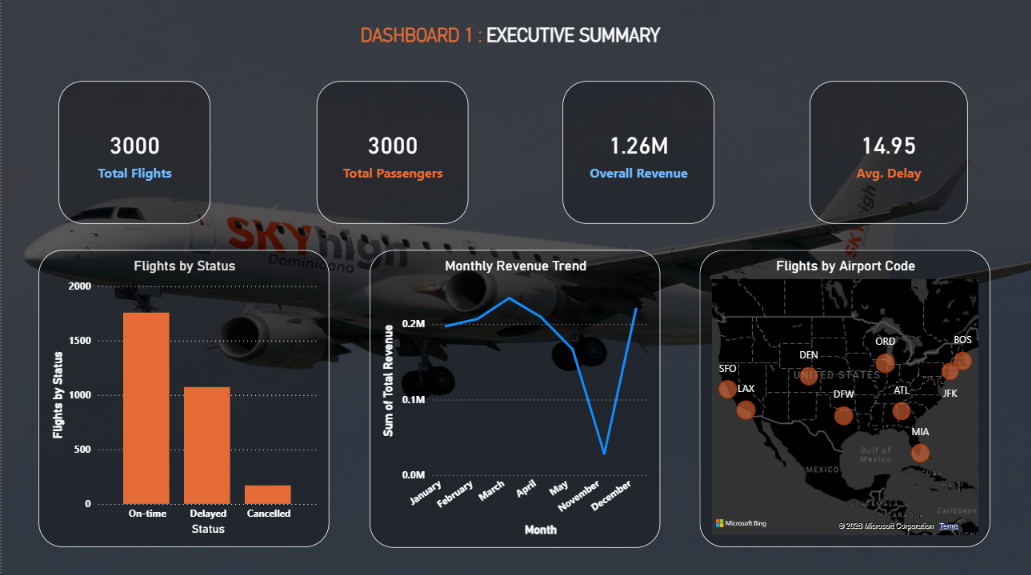

This screenshot's page, from the dashboard's own definition file:
{"tool":"powerbi","page":{"name":"Page 1","canvas":[1280,720],"ordinal":0},"visuals":[{"type":"textbox","box":[441.6,24.9,395.6,42.3],"z":0},{"type":"card","fields":{"Values":["Airline_Flights.Total Flights"]},"box":[70.9,100.8,189.1,177.9],"z":1000},{"type":"card","fields":{"Values":["Airline_Passengers.Total Passengers"]},"box":[391.8,100.8,189.1,177.9],"z":2000},{"type":"card","fields":{"Values":["Airline_Revenue.Overall Revenue"]},"box":[697.9,100.8,189.1,177.9],"z":3000},{"type":"card","fields":{"Values":["Airline_Flights.Average Delay"]},"box":[1005.1,100.8,196.5,177.9],"z":4000},{"type":"clusteredColumnChart","title":"Flights by Status ","fields":{"Category":["Airline_Flights.Status"],"Y":["Airline_Flights.Flights by Status"]},"box":[46,311,362,369.5],"z":5000},{"type":"lineChart","title":"Monthly Revenue Trend","fields":{"Y":["Sum(Airline_Revenue.Total Revenue)"],"Category":["Airline_Flights.Date.Variation.Date Hierarchy.Month"]},"box":[457.8,311,362,370.7],"z":6000},{"type":"map","title":"Flights by Airport Code","fields":{"Category":["Airline_Airports.Airport Code","Airline_Airports.Country"],"Size":["Airline_Flights.Total Flights"]},"box":[868.3,311,362,369.5],"z":7001}]}

Visuals, with their boxes in screenshot pixels (x1, y1, x2, y2), scaled from the page's 1280x720 canvas onto the 1031x575 screenshot:
textbox: {"left": 356, "top": 20, "right": 674, "bottom": 54}
card - Airline_Flights.Total Flights: {"left": 57, "top": 80, "right": 209, "bottom": 223}
card - Airline_Passengers.Total Passengers: {"left": 316, "top": 80, "right": 468, "bottom": 223}
card - Airline_Revenue.Overall Revenue: {"left": 562, "top": 80, "right": 714, "bottom": 223}
card - Airline_Flights.Average Delay: {"left": 810, "top": 80, "right": 968, "bottom": 223}
"Flights by Status " clusteredColumnChart: {"left": 37, "top": 248, "right": 329, "bottom": 543}
"Monthly Revenue Trend" lineChart: {"left": 369, "top": 248, "right": 660, "bottom": 544}
"Flights by Airport Code" map: {"left": 699, "top": 248, "right": 991, "bottom": 543}
